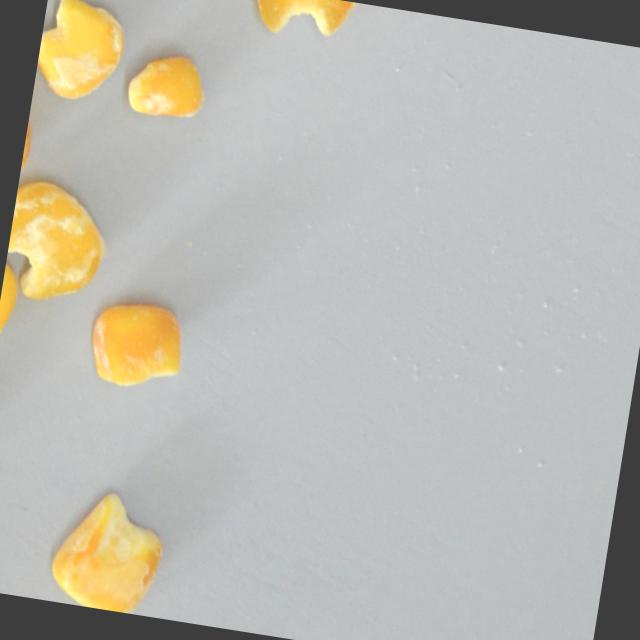dañado: (80, 291, 193, 399), (235, 0, 365, 48)
no_canjicado: (0, 251, 29, 353)
pelicula: (42, 475, 179, 618), (0, 171, 118, 313), (31, 0, 135, 114), (122, 41, 214, 128)
